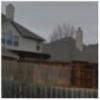chimneys: (76, 27, 83, 53), (5, 4, 16, 20)
